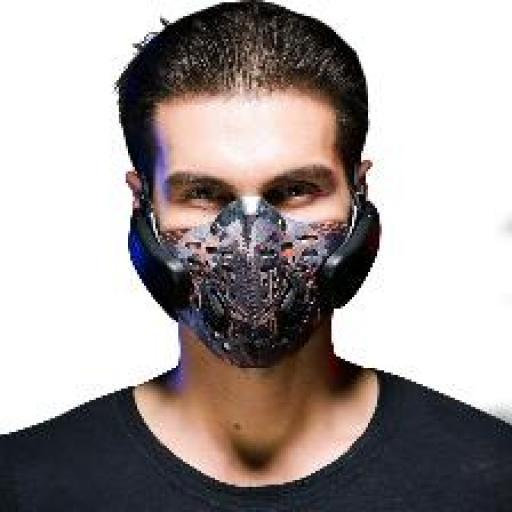mask: (164, 200, 314, 373)
